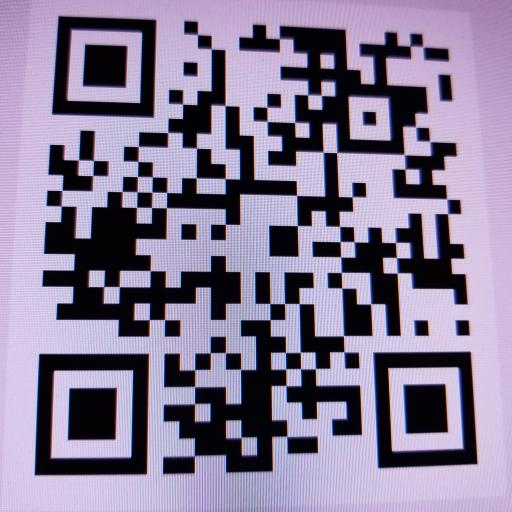QR_CODE: (21, 5, 489, 485)
